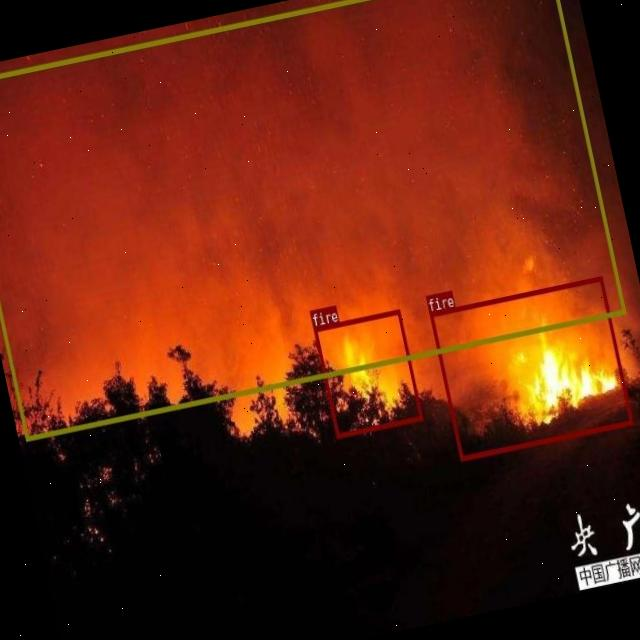fire: (428, 276, 632, 460), (314, 308, 422, 436)
smoke: (0, 0, 625, 439)
